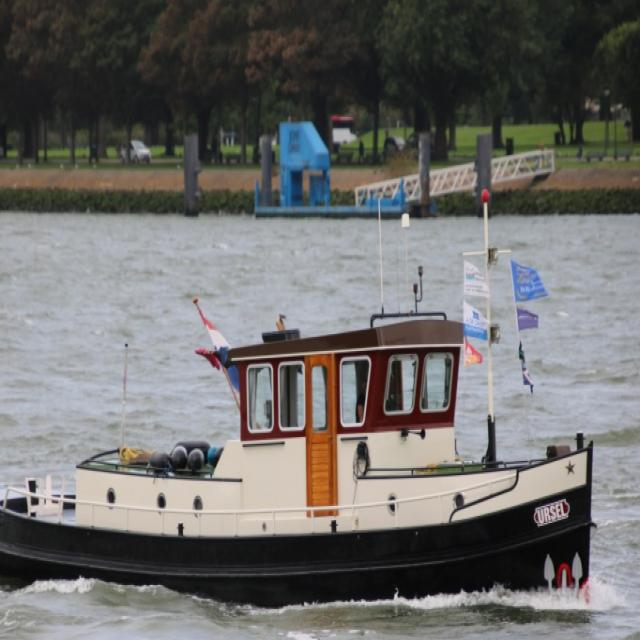tugboat: (1, 297, 600, 630)
